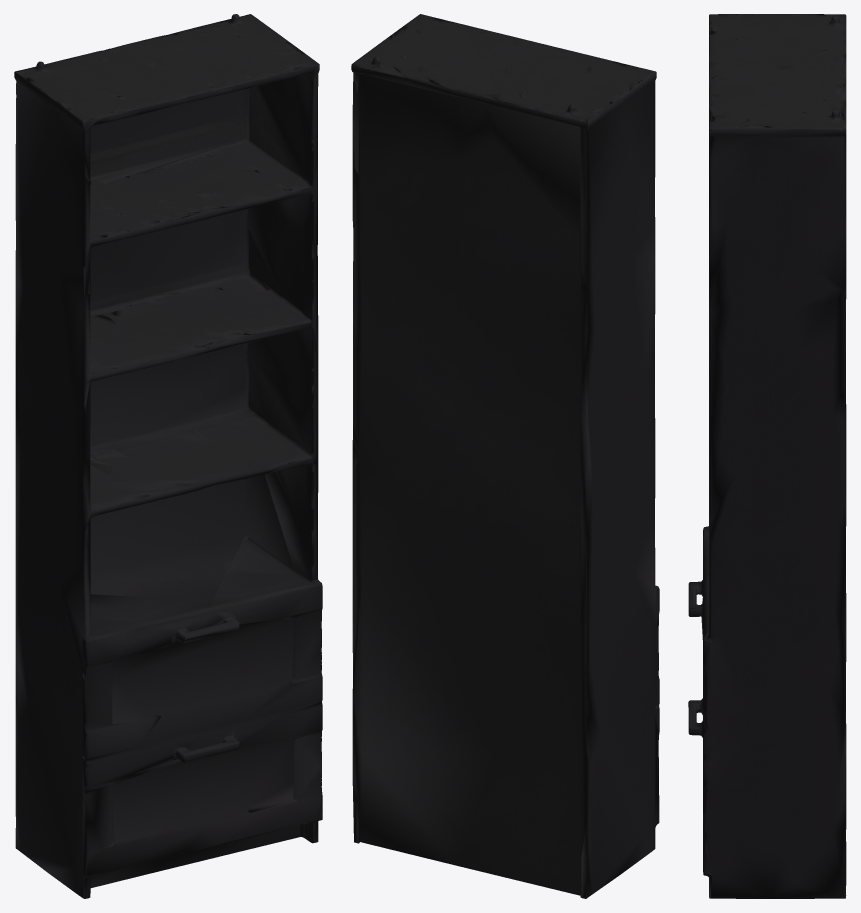
Rendered from meshy-ikea-40301223.glb.
3 renders of one model, left to right at view 1: azimuth 30°, elevation 25°; view 2: azimuth 150°, elevation 25°; view 3: azimuth 270°, elevation 25°, orthographic.
Visible parts, largest first — view 1: Exact catalog scale: ikea-40301223; view 2: Exact catalog scale: ikea-40301223; view 3: Exact catalog scale: ikea-40301223.
Boxes of the visible parts, x1,y1,x2,y2 form: Exact catalog scale: ikea-40301223: (14, 14, 322, 898); Exact catalog scale: ikea-40301223: (351, 14, 659, 898); Exact catalog scale: ikea-40301223: (688, 14, 846, 898).
Bounding box in the file's own units: 0.6 × 1.9 × 0.349.
1 material, 1 textured.
